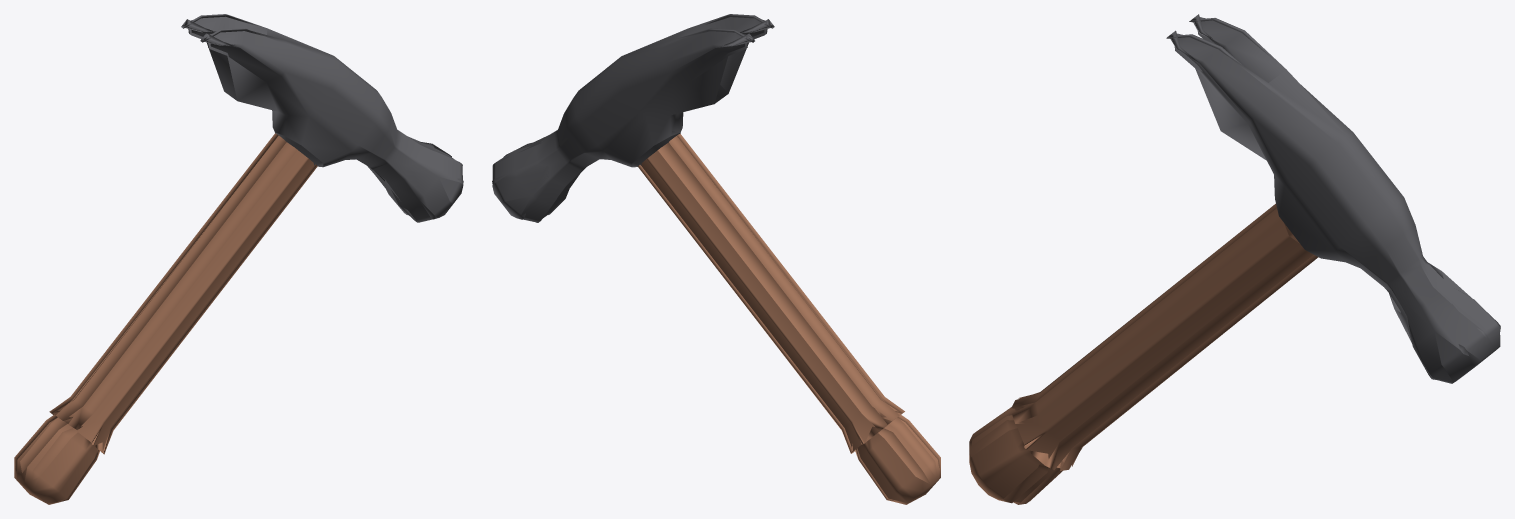
Rendered from Hammer.fbx.
3 renders of one model, left to right at view 1: azimuth 30°, elevation 25°; view 2: azimuth 150°, elevation 25°; view 3: azimuth 330°, elevation 25°, orthographic. The views are drawn at different scales.
Parts seen in each view (by area): view 1: Hammer; view 2: Hammer; view 3: Hammer.
Part boxes in pixels (x1,y1,x2,y2): Hammer: (14, 14, 463, 504); Hammer: (492, 14, 940, 504); Hammer: (969, 14, 1500, 504).
Size of the model in its own units: 56.34 by 53.53 by 8.03.
